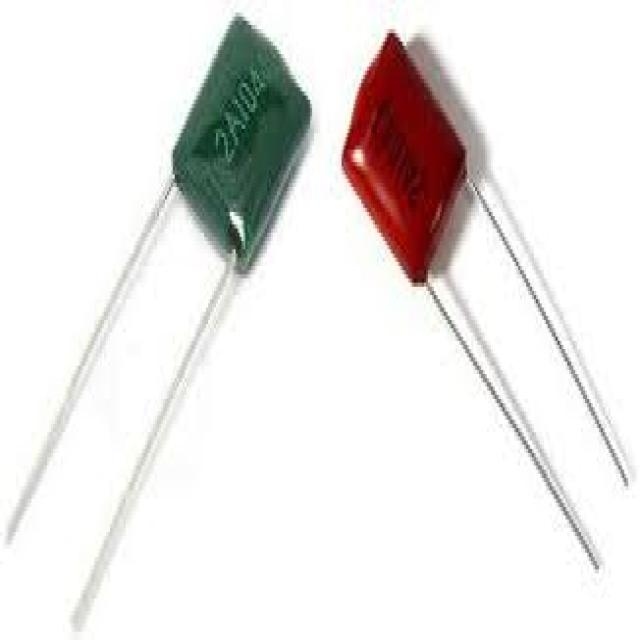Capacitor: (171, 17, 314, 274), (340, 33, 469, 291)
